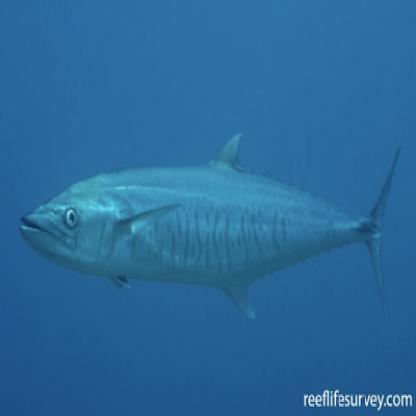Bio: (15, 122, 404, 324)
